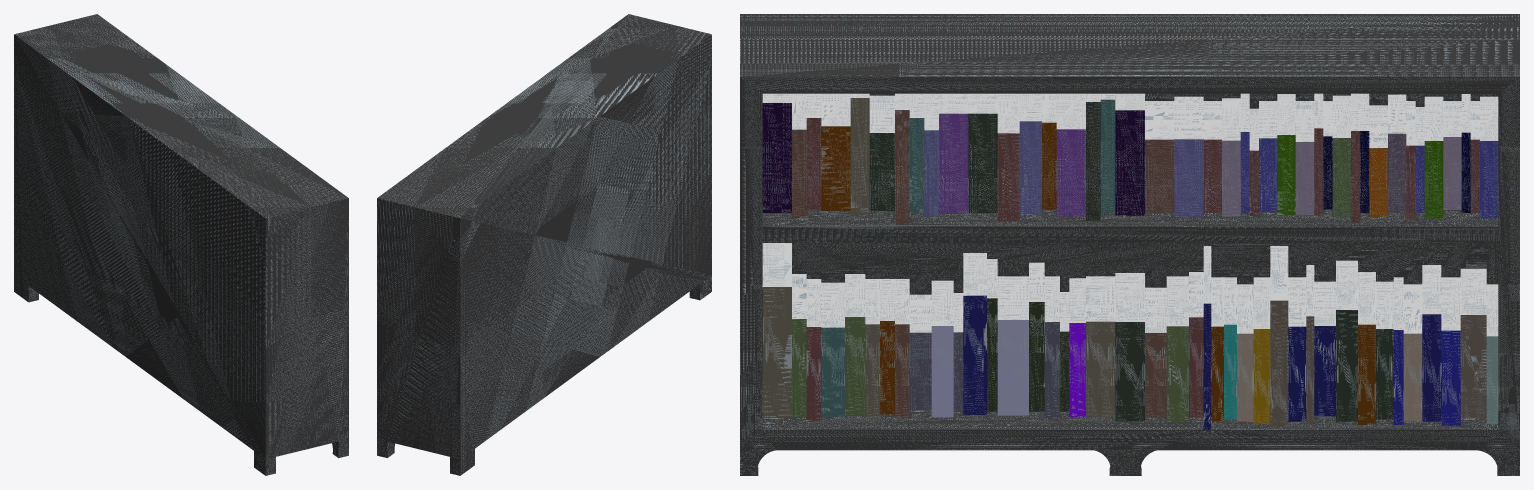
File: bookshelfSmall.dae
3 views of the same model, side by side, from view 1: azimuth 30°, elevation 25°; view 2: azimuth 150°, elevation 25°; view 3: azimuth 270°, elevation 25° (orthographic). The views are drawn at different scales.
Parts seen in each view (by area): view 1: SketchUp; view 2: SketchUp; view 3: SketchUp (×115).
Part boxes in pixels (x1,y1,x2,y2): SketchUp: (14, 14, 348, 475); SketchUp: (377, 14, 711, 475); SketchUp (×115): (740, 14, 1519, 475).
Bounding box in the file's own units: 9.69 × 50.69 × 28.62.
